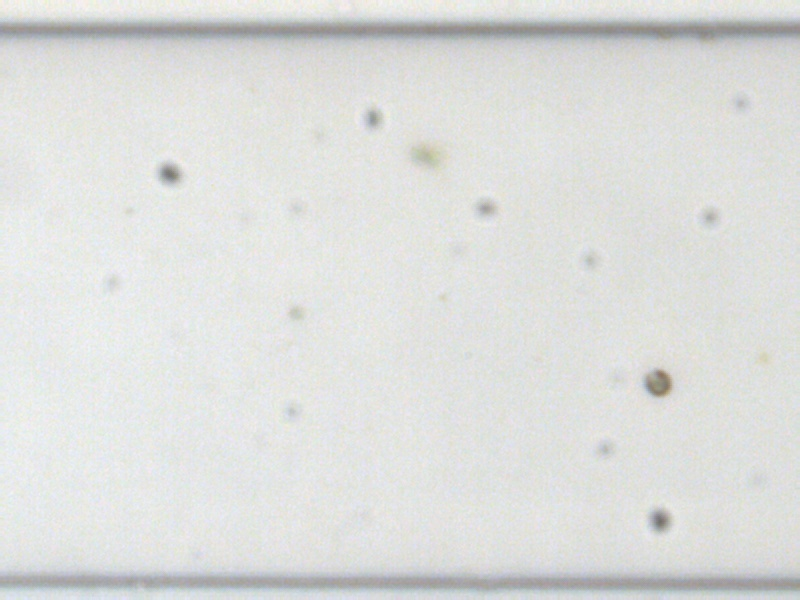Chlorella: (287, 303, 304, 320)
Dunaliella salina: (407, 141, 445, 166), (640, 368, 673, 396)
